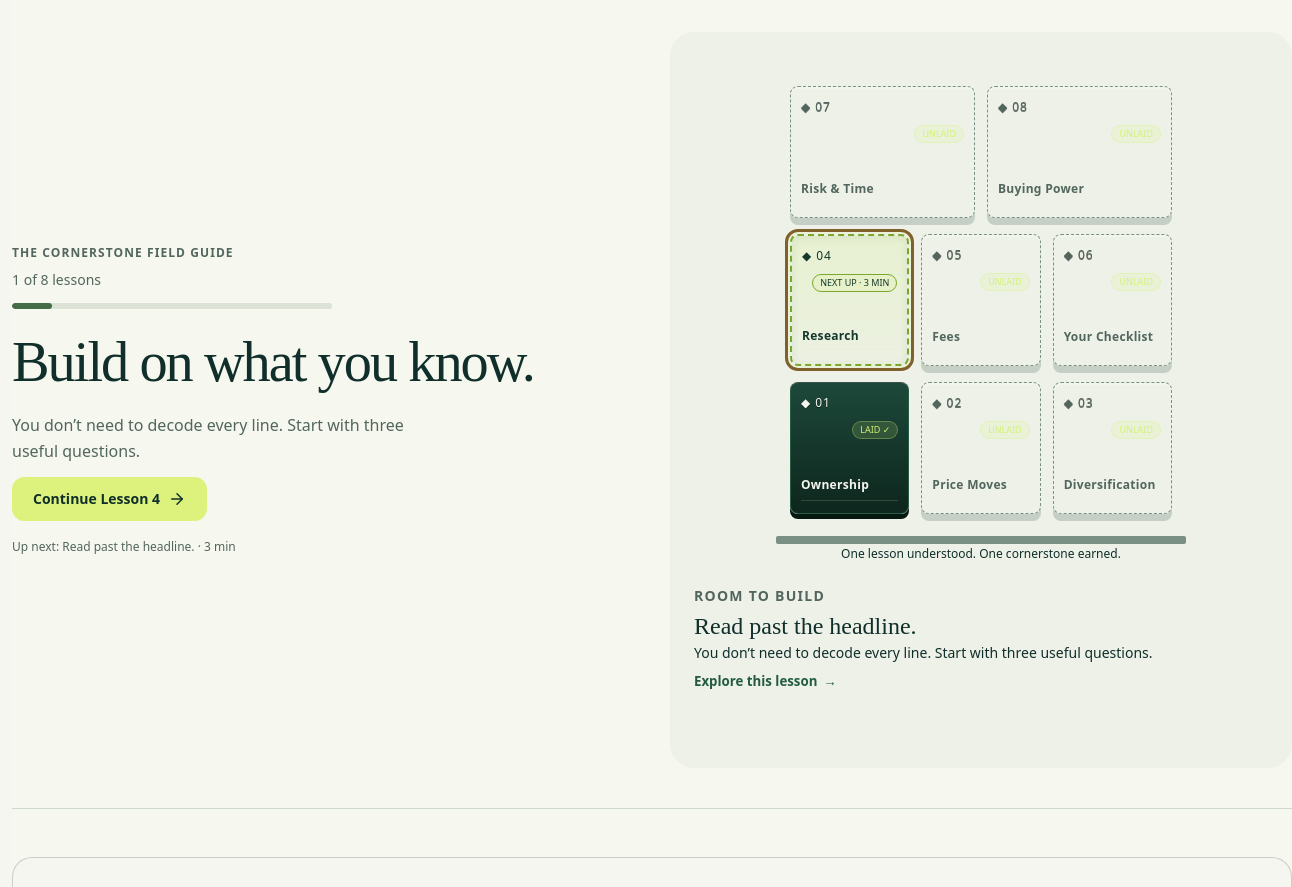
Test: prioritizes a resumed lesson and allows review through earned stones
Click the button "◆ 01 LAID ✓ Ownership" at {"x": 850, "y": 448}, box x1=790 y1=382 x2=909 y2=514
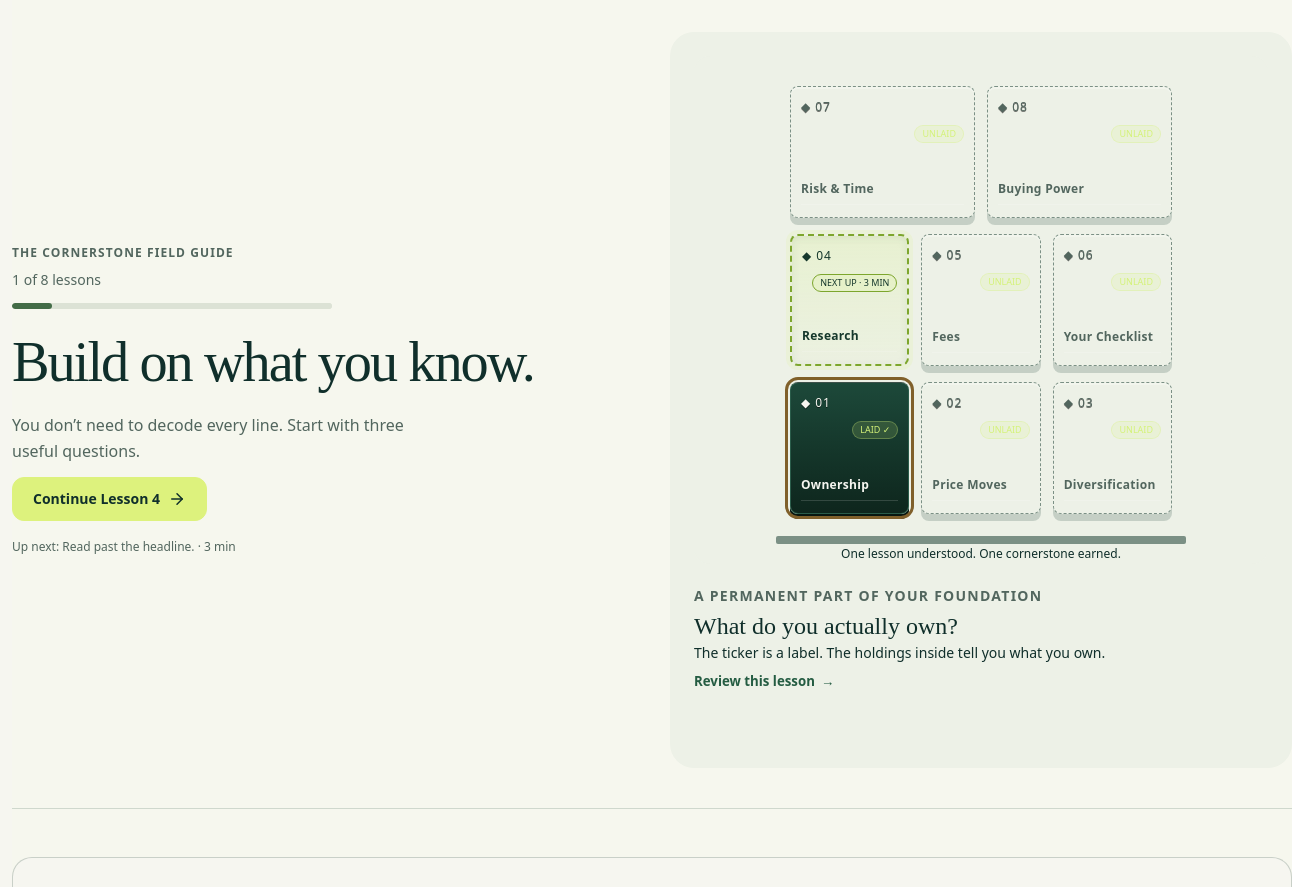
Expected: the link "Continue Lesson 4" is shown, x1=12 y1=476 x2=207 y2=521
Result: the link "Review this lesson →" has attribute href="/learn/what-you-own" at x1=694 y1=672 x2=834 y2=690
